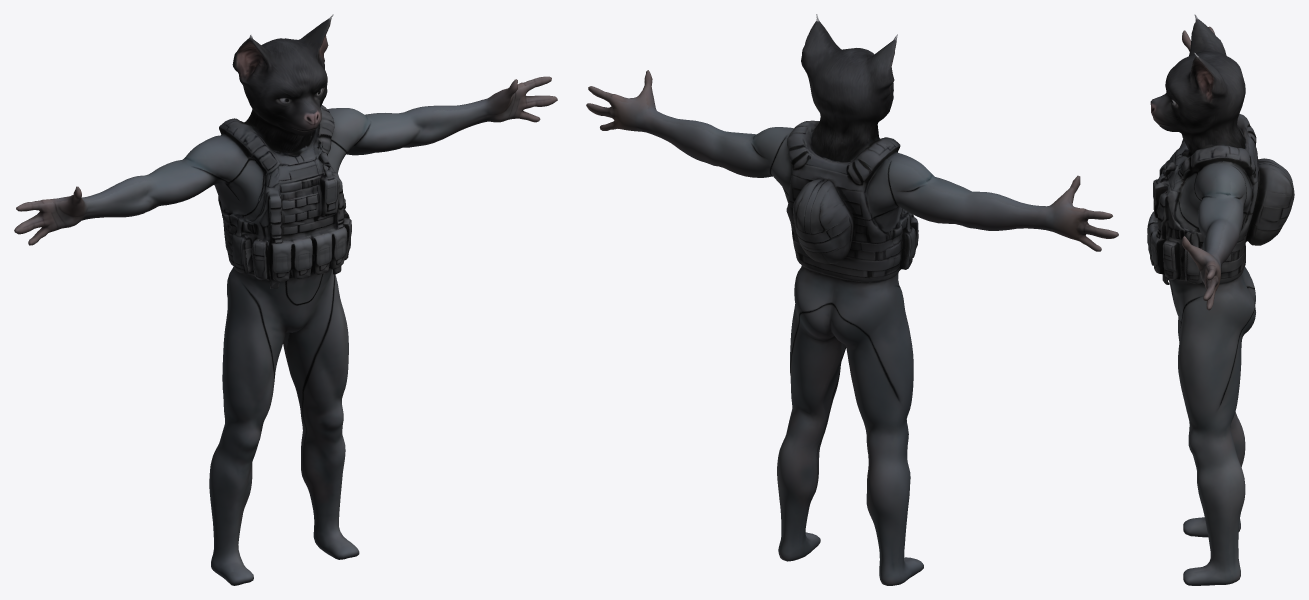
File: 136_orig.glb
3 renders of one model, left to right at view 1: azimuth 30°, elevation 25°; view 2: azimuth 150°, elevation 25°; view 3: azimuth 270°, elevation 25°, orthographic. The views are drawn at different scales.
Visible parts, largest first — view 1: world; view 2: world; view 3: world.
Part boxes in pixels (x1,y1,x2,y2): world: [14, 14, 557, 585]; world: [586, 14, 1118, 585]; world: [1147, 14, 1294, 585].
Bounding box in the file's own units: 2 × 1.92 × 0.4885.
Materials: 1 (1 with a texture image).
